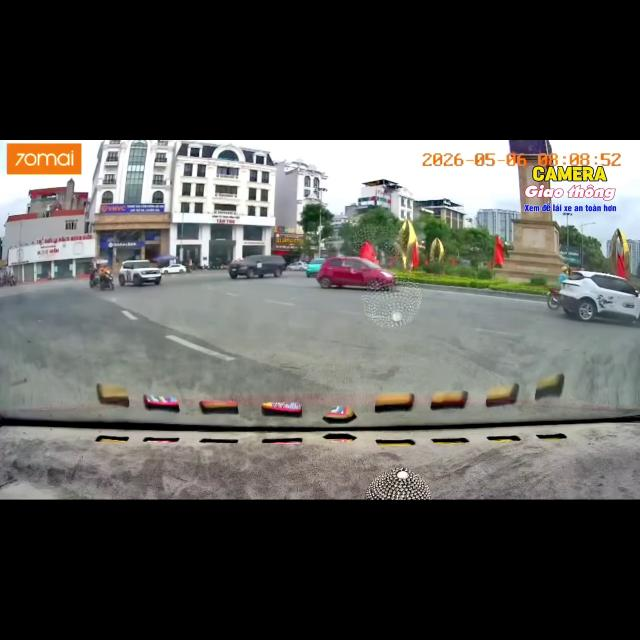car: (559, 271, 639, 321), (316, 257, 396, 289), (228, 255, 286, 278), (118, 260, 161, 285), (306, 258, 326, 278), (160, 264, 186, 274), (287, 261, 307, 270)
motorcycle: (547, 288, 559, 309), (99, 275, 114, 290), (90, 276, 98, 288), (9, 274, 17, 286)
